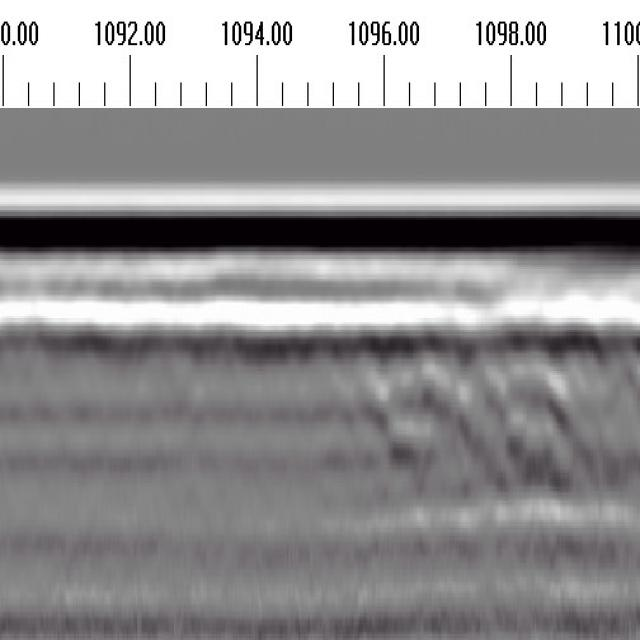loose: (371, 329, 583, 496)
